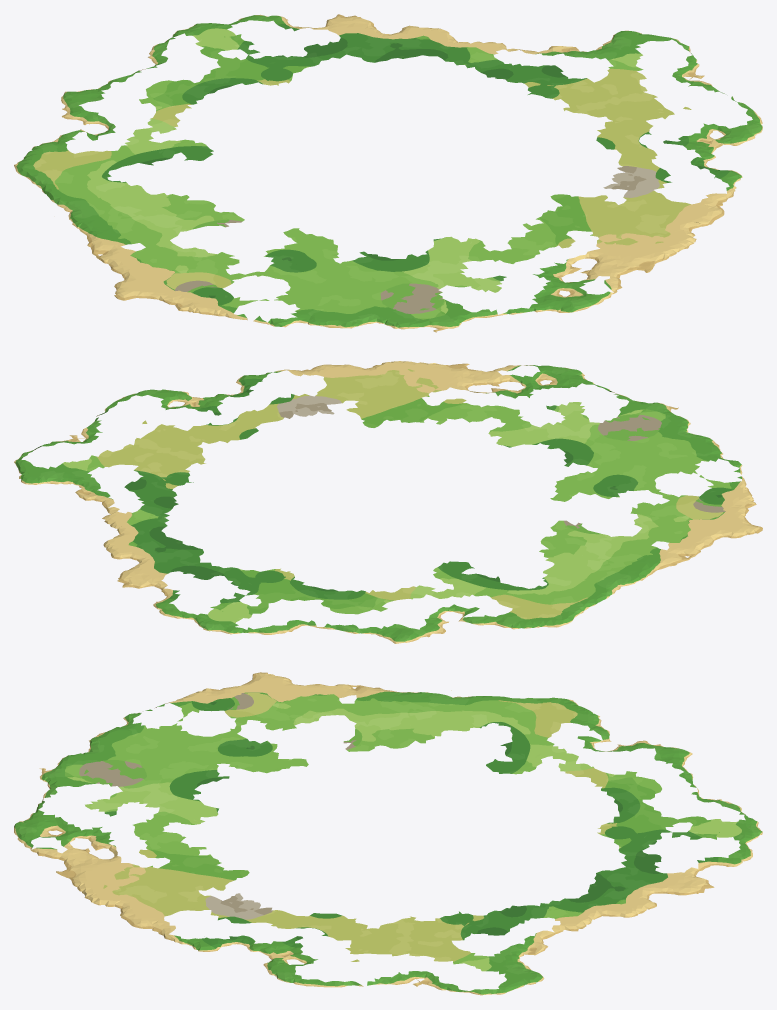
The model's file is Isl-hilly5-Ground.fbx.
The picture shows the model from 3 angles, top to bottom: view 1: azimuth 30°, elevation 25°; view 2: azimuth 150°, elevation 25°; view 3: azimuth 270°, elevation 25°; orthographic projection. The views are drawn at different scales.
Parts seen in each view (by area): view 1: Isl-hilly5-Ground-c11, Isl-hilly5-Ground-c21, Isl-hilly5-Ground-c12, Isl-hilly5-Ground-c22, Isl-hilly5-Ground-c01, Isl-hilly5-Ground-c10, Isl-hilly5-Ground-c20, Isl-hilly5-Ground-c32, Isl-hilly5-Ground-c31, Isl-hilly5-Ground-c23, Isl-hilly5-Ground-c02, Isl-hilly5-Ground-c13; view 2: Isl-hilly5-Ground-c11, Isl-hilly5-Ground-c12, Isl-hilly5-Ground-c21, Isl-hilly5-Ground-c22, Isl-hilly5-Ground-c01, Isl-hilly5-Ground-c10, Isl-hilly5-Ground-c20, Isl-hilly5-Ground-c32, Isl-hilly5-Ground-c23, Isl-hilly5-Ground-c13, Isl-hilly5-Ground-c31, Isl-hilly5-Ground-c02; view 3: Isl-hilly5-Ground-c11, Isl-hilly5-Ground-c21, Isl-hilly5-Ground-c12, Isl-hilly5-Ground-c22, Isl-hilly5-Ground-c01, Isl-hilly5-Ground-c10, Isl-hilly5-Ground-c20, Isl-hilly5-Ground-c32, Isl-hilly5-Ground-c31, Isl-hilly5-Ground-c23, Isl-hilly5-Ground-c13.
Boxes of the visible parts, box(x1,y1,x2,y2) form: Isl-hilly5-Ground-c11: box(97, 201, 543, 328); Isl-hilly5-Ground-c21: box(507, 93, 742, 277); Isl-hilly5-Ground-c12: box(14, 40, 278, 226); Isl-hilly5-Ground-c22: box(221, 14, 647, 111); Isl-hilly5-Ground-c01: box(85, 228, 214, 315); Isl-hilly5-Ground-c10: box(368, 281, 584, 332); Isl-hilly5-Ground-c20: box(544, 244, 689, 309); Isl-hilly5-Ground-c32: box(602, 30, 704, 84); Isl-hilly5-Ground-c31: box(688, 82, 762, 144); Isl-hilly5-Ground-c23: box(197, 14, 288, 39); Isl-hilly5-Ground-c02: box(15, 169, 100, 234); Isl-hilly5-Ground-c13: box(148, 24, 220, 58); Isl-hilly5-Ground-c11: box(488, 393, 748, 566); Isl-hilly5-Ground-c12: box(230, 541, 641, 643); Isl-hilly5-Ground-c21: box(134, 361, 528, 459); Isl-hilly5-Ground-c22: box(60, 443, 285, 611); Isl-hilly5-Ground-c01: box(642, 489, 762, 571); Isl-hilly5-Ground-c10: box(534, 368, 690, 432); Isl-hilly5-Ground-c20: box(403, 361, 565, 393); Isl-hilly5-Ground-c32: box(14, 432, 98, 484); Isl-hilly5-Ground-c23: box(153, 599, 229, 630); Isl-hilly5-Ground-c13: box(208, 612, 293, 634); Isl-hilly5-Ground-c31: box(82, 389, 183, 433); Isl-hilly5-Ground-c02: box(564, 565, 654, 624); Isl-hilly5-Ground-c11: box(85, 695, 404, 830); Isl-hilly5-Ground-c21: box(85, 829, 404, 965); Isl-hilly5-Ground-c12: box(402, 695, 720, 830); Isl-hilly5-Ground-c22: box(402, 829, 721, 964); Isl-hilly5-Ground-c01: box(181, 672, 403, 698); Isl-hilly5-Ground-c10: box(14, 749, 92, 832); Isl-hilly5-Ground-c20: box(14, 829, 92, 899); Isl-hilly5-Ground-c32: box(402, 961, 544, 995); Isl-hilly5-Ground-c31: box(264, 961, 404, 987); Isl-hilly5-Ground-c23: box(715, 829, 762, 866); Isl-hilly5-Ground-c13: box(714, 799, 762, 831).
Bounding box in the file's own units: 128 × 0.4899 × 125.
